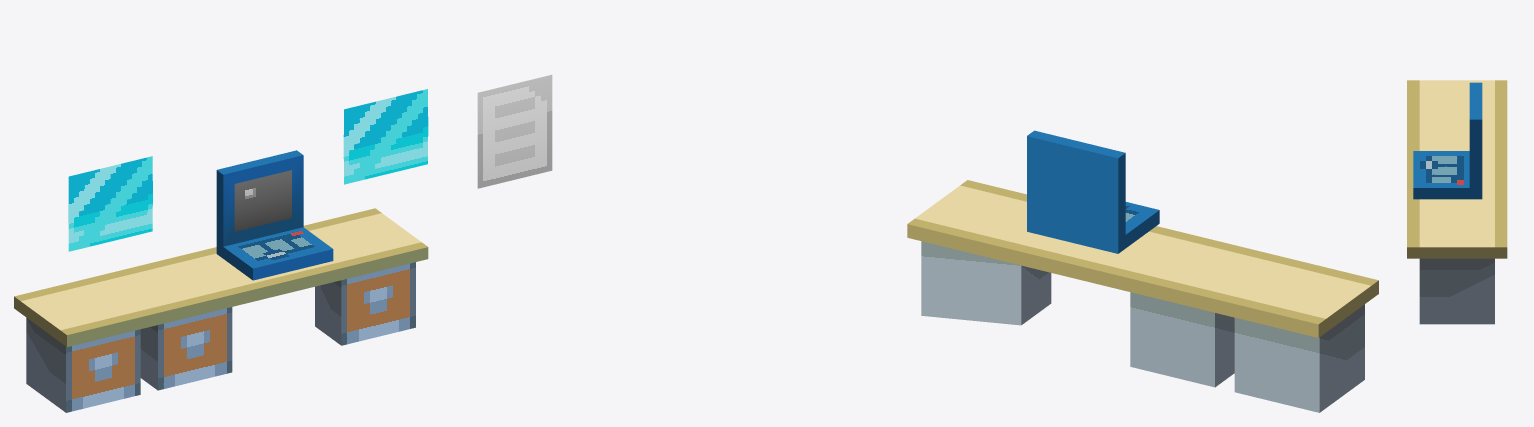
The picture shows the model from 3 angles, left to right: view 1: azimuth 30°, elevation 25°; view 2: azimuth 150°, elevation 25°; view 3: azimuth 270°, elevation 25°; orthographic projection. The views are drawn at different scales.
Bounding box in the file's own units: 6.5 × 2.25 × 1.12.
Materials: 4 (4 with a texture image).
